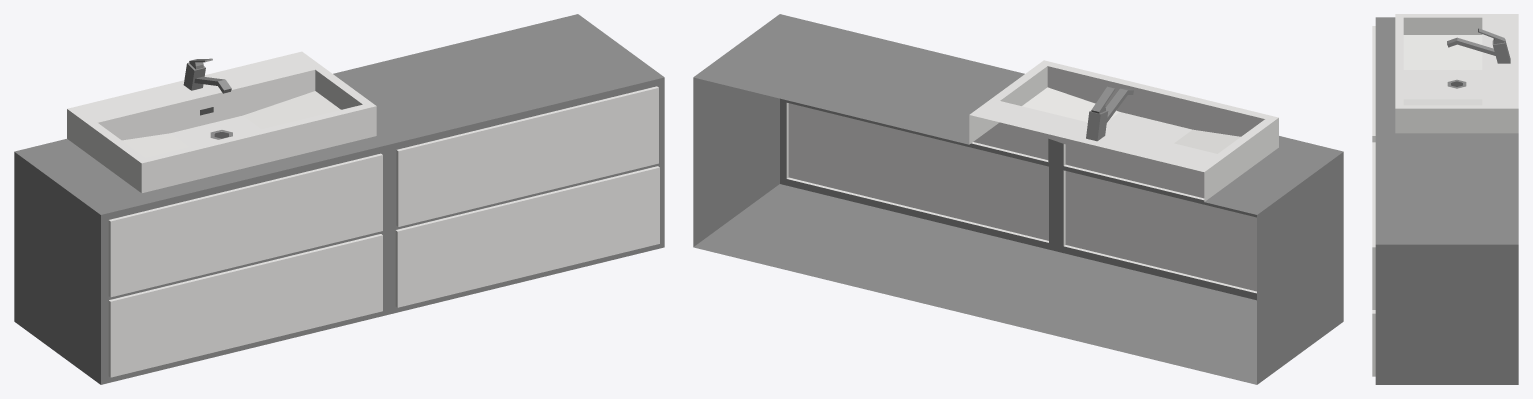
Rendered from Washstand_3.fbx.
The picture shows the model from 3 angles, left to right: view 1: azimuth 30°, elevation 25°; view 2: azimuth 150°, elevation 25°; view 3: azimuth 270°, elevation 25°; orthographic projection. The views are drawn at different scales.
Parts seen in each view (by area): view 1: Washstand_3; view 2: Washstand_3; view 3: Washstand_3.
Part boxes in pixels (<box>): Washstand_3: <box>14,14,664,384</box>; Washstand_3: <box>693,14,1343,384</box>; Washstand_3: <box>1372,14,1518,384</box>.
Bounding box in the file's own units: 268 × 72.92 × 108.
